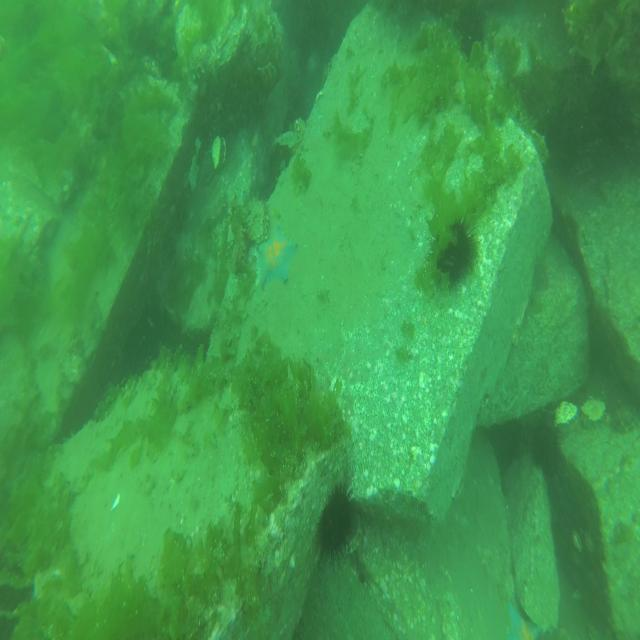echinus: (427, 219, 475, 295), (314, 484, 355, 564), (531, 421, 559, 476)
starfish: (255, 226, 299, 291), (505, 600, 544, 640)
